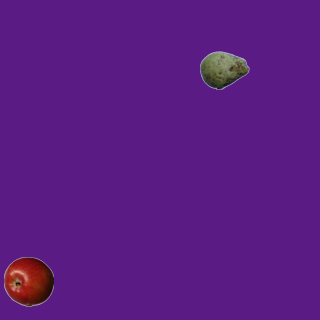Apple Braeburn: (3, 256, 53, 306)
Pear Stone: (199, 45, 249, 95)
